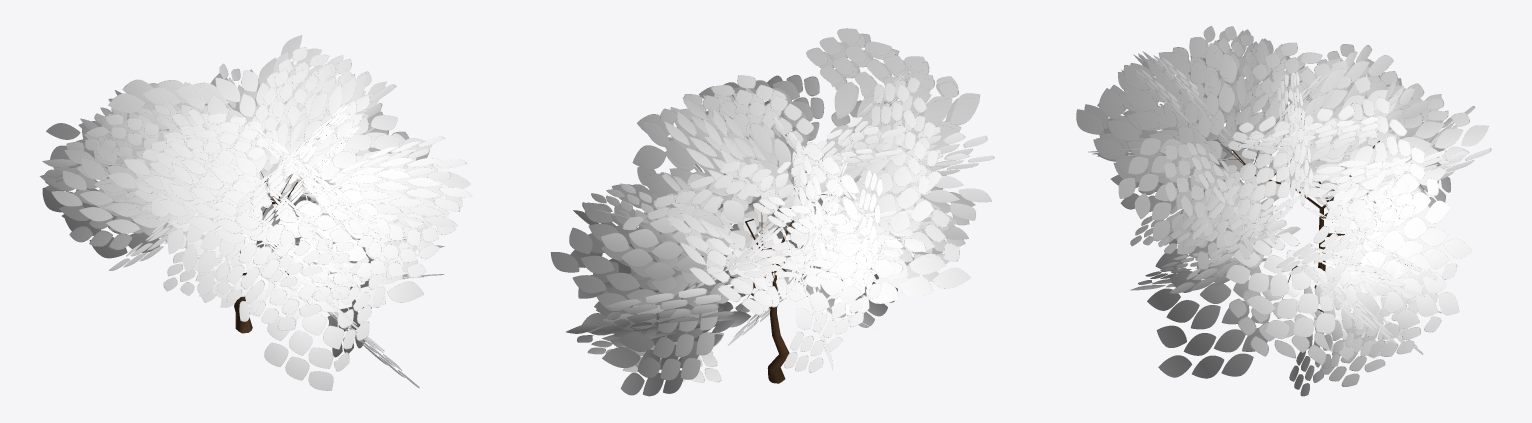
Rendered from GBush_01.fbx.
The picture shows the model from 3 angles, left to right: view 1: azimuth 30°, elevation 25°; view 2: azimuth 150°, elevation 25°; view 3: azimuth 270°, elevation 25°; orthographic projection. The views are drawn at different scales.
Parts seen in each view (by area): view 1: GBush_01_LOD0; view 2: GBush_01_LOD0; view 3: GBush_01_LOD0.
Part boxes in pixels (<box>): GBush_01_LOD0: <box>40,35,472,390</box>; GBush_01_LOD0: <box>550,28,994,396</box>; GBush_01_LOD0: <box>1076,26,1491,396</box>.
Size of what is drawn, in the model's own units: 131 by 102 by 138.
